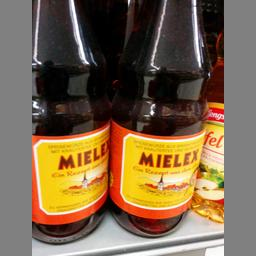vinegar: (112, 0, 210, 234), (32, 0, 109, 245)
